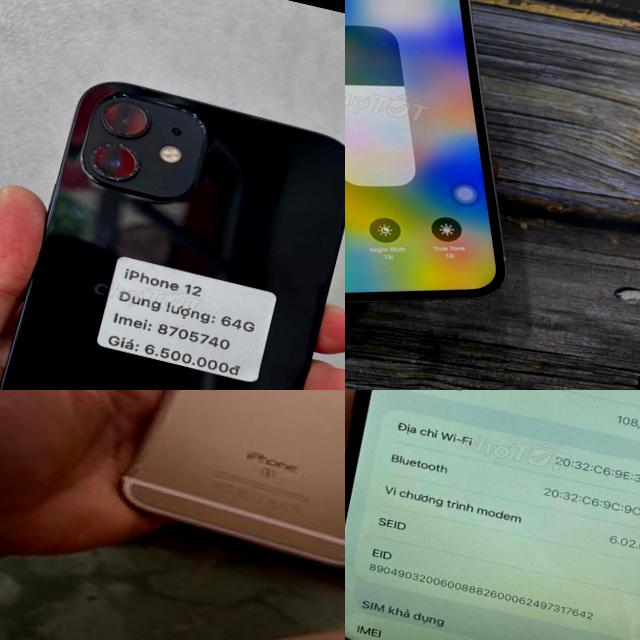gen_12_13: (0, 64, 345, 390), (345, 0, 579, 348), (345, 390, 640, 640)
gen_6: (112, 390, 345, 599)
scratch: (63, 80, 231, 224)
